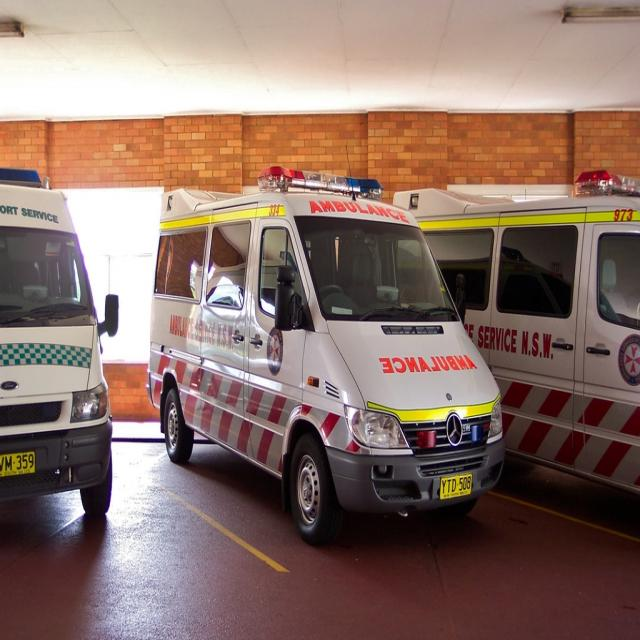Ambulance: (148, 145, 507, 548), (393, 170, 640, 497), (1, 164, 120, 512)
